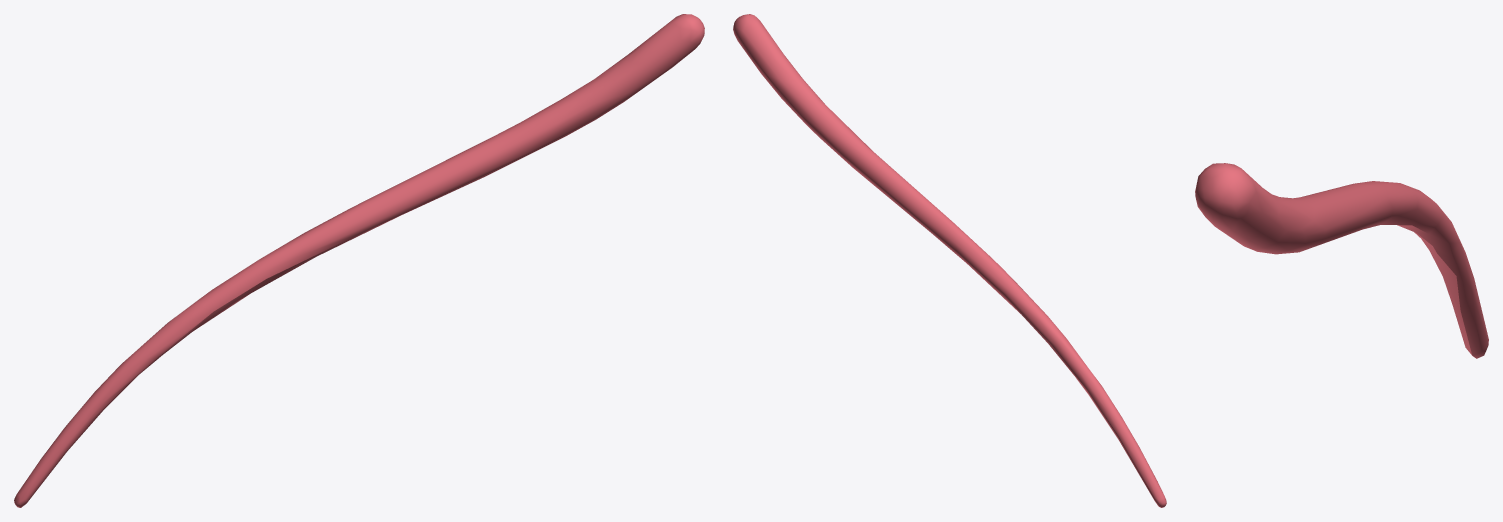
Rendered from fma9425_fj6128.glb.
3 renders of one model, left to right at view 1: azimuth 30°, elevation 25°; view 2: azimuth 150°, elevation 25°; view 3: azimuth 270°, elevation 25°, orthographic. The views are drawn at different scales.
Visible parts, largest first — view 1: FMA9425_FJ6128; view 2: FMA9425_FJ6128; view 3: FMA9425_FJ6128.
Boxes of the visible parts, x1,y1,x2,y2 form: FMA9425_FJ6128: [14, 14, 704, 507]; FMA9425_FJ6128: [733, 14, 1166, 507]; FMA9425_FJ6128: [1195, 163, 1488, 358].
Size of the model in its own units: 0.0858 by 0.0546 by 0.0221.
